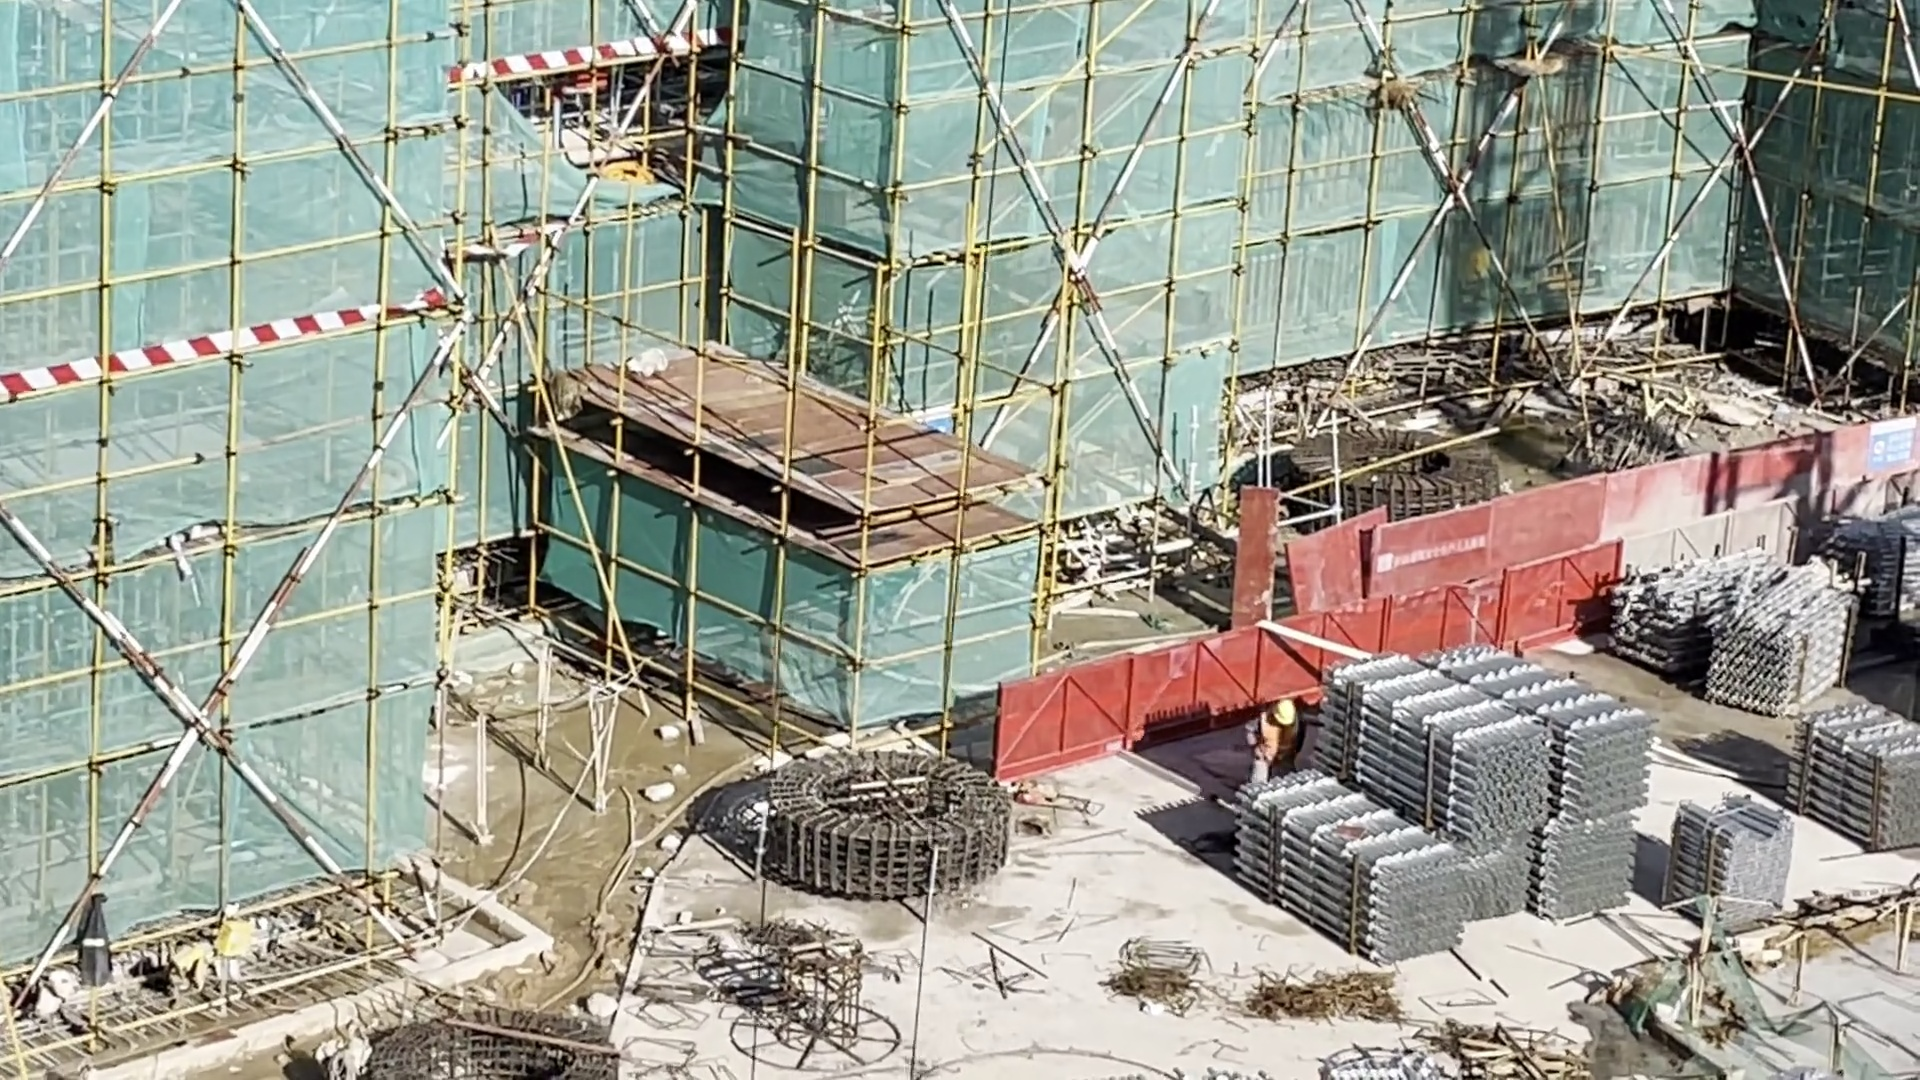fence: (1001, 467, 1920, 778)
helmet: (1268, 692, 1301, 736)
person: (1244, 693, 1310, 785)
scaffold: (1226, 657, 1658, 958), (1599, 548, 1863, 709), (1774, 714, 1920, 853), (1666, 794, 1790, 920)
vest: (1255, 712, 1300, 759)
